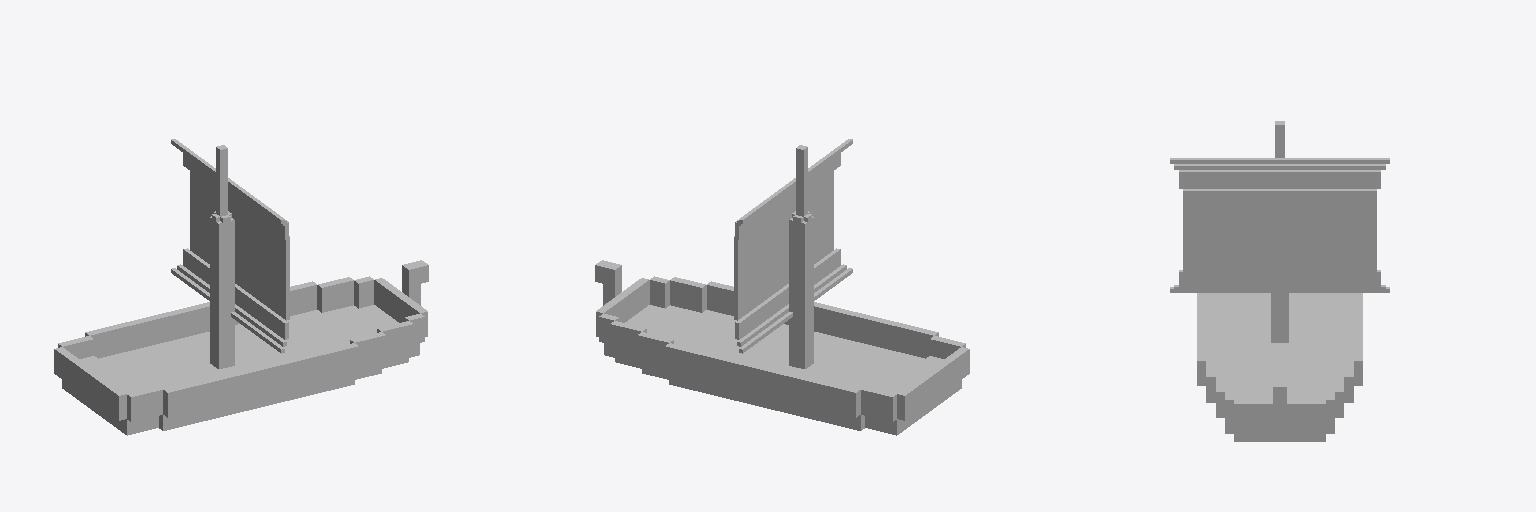
The model's file is sail_boat.obj.
The picture shows the model from 3 angles: view 1: azimuth 30°, elevation 25°; view 2: azimuth 150°, elevation 25°; view 3: azimuth 270°, elevation 25°; orthographic projection.
Parts seen in each view (by area): view 1: sail_boat; view 2: sail_boat; view 3: sail_boat.
Part boxes in pixels (bbox=[...]): sail_boat: bbox=[54, 139, 428, 435]; sail_boat: bbox=[595, 139, 969, 435]; sail_boat: bbox=[1170, 121, 1389, 441].
Bounding box in the file's own units: 5.31 × 3.5 × 3.